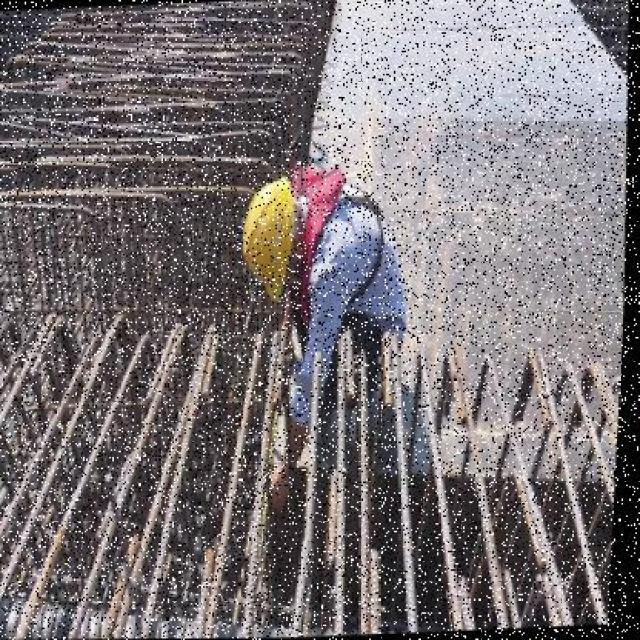helmet: (243, 168, 305, 308)
